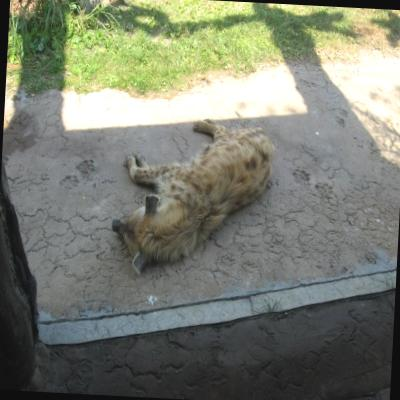hyenas: (100, 92, 314, 282)
